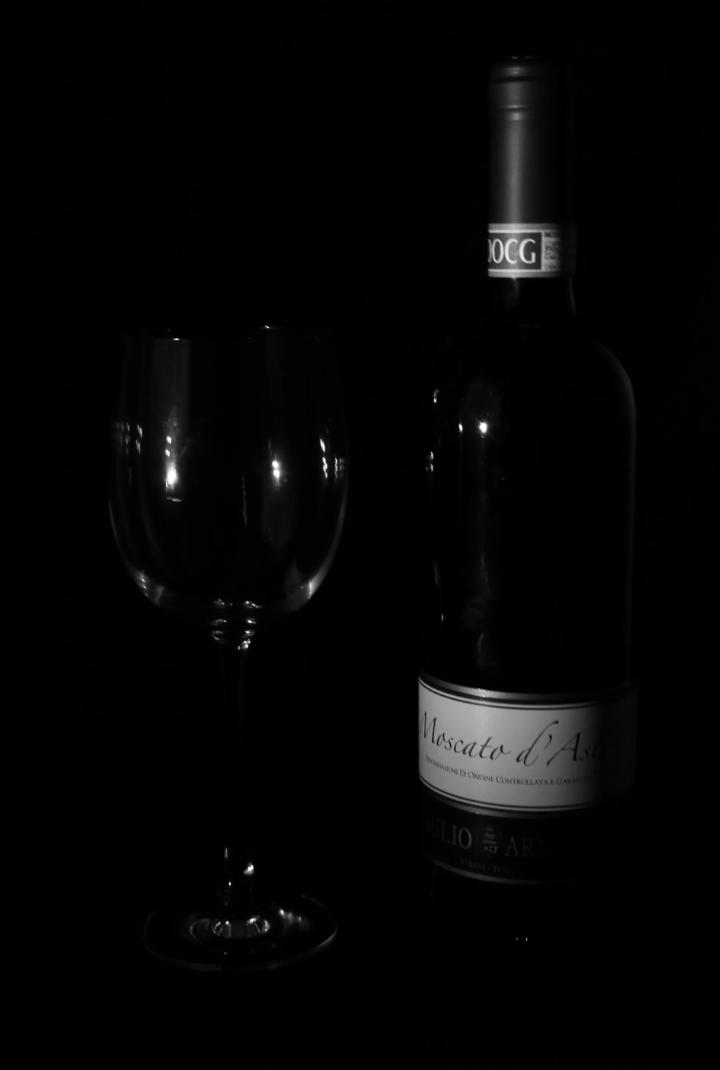wine bottle: (419, 46, 640, 944)
wine label: (422, 674, 640, 887)
